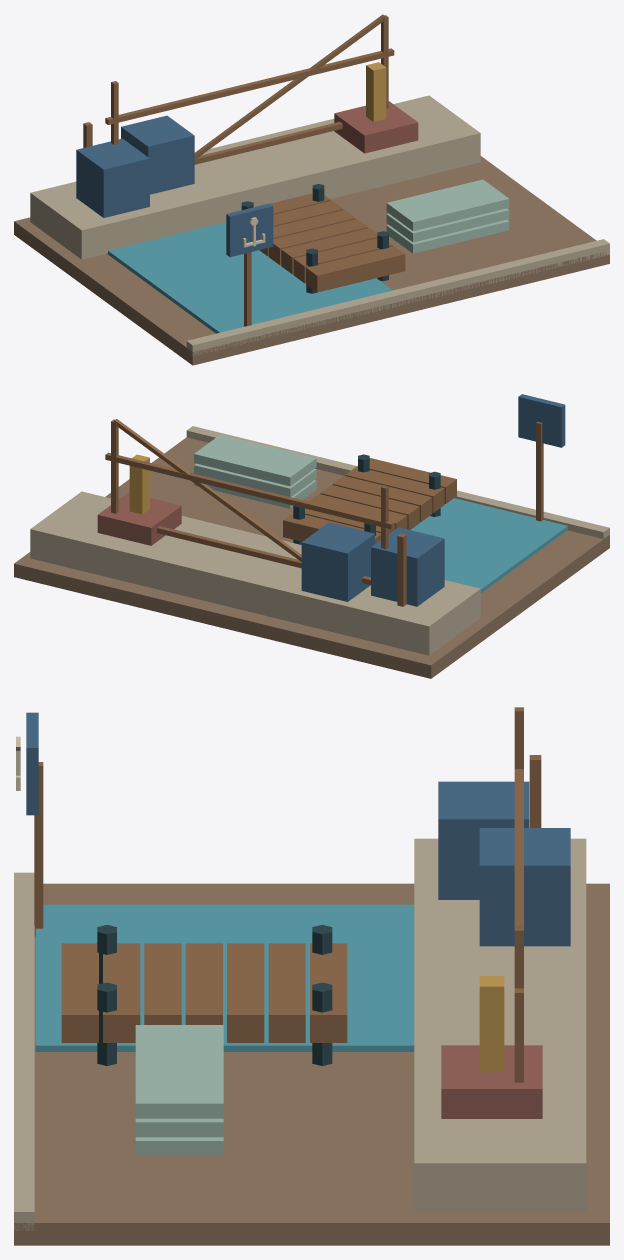
File: harbor-seabreeze-half-built.glb
3 views of the same model, one above another, from view 1: azimuth 30°, elevation 25°; view 2: azimuth 150°, elevation 25°; view 3: azimuth 270°, elevation 25° (orthographic). The views are drawn at different scales.
Visible parts, largest first — view 1: harbor; view 2: harbor; view 3: harbor.
Boxes of the visible parts, bbox=[...] form: harbor: bbox=[14, 14, 609, 365]; harbor: bbox=[14, 394, 609, 678]; harbor: bbox=[14, 707, 609, 1245].
Size of the model in its own units: 3.88 by 1.39 by 2.88.
